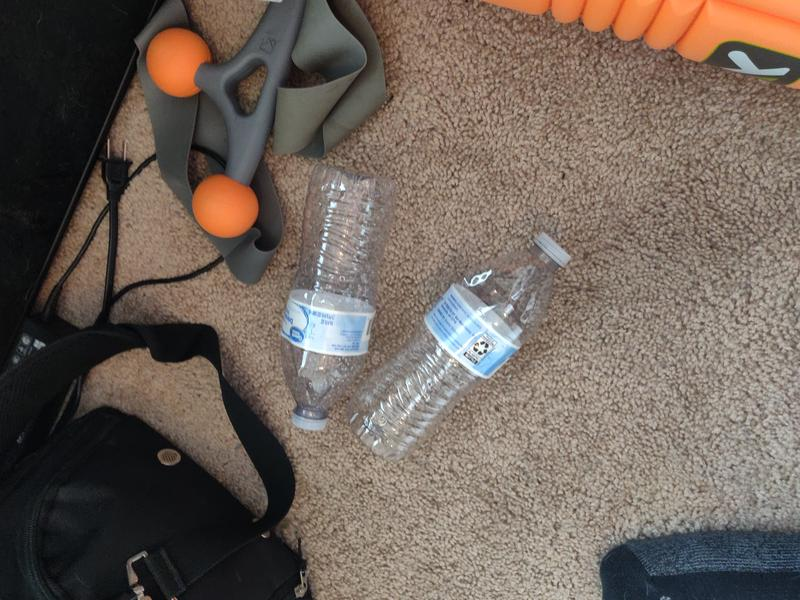bottle: (345, 232, 572, 461), (280, 167, 398, 430)
